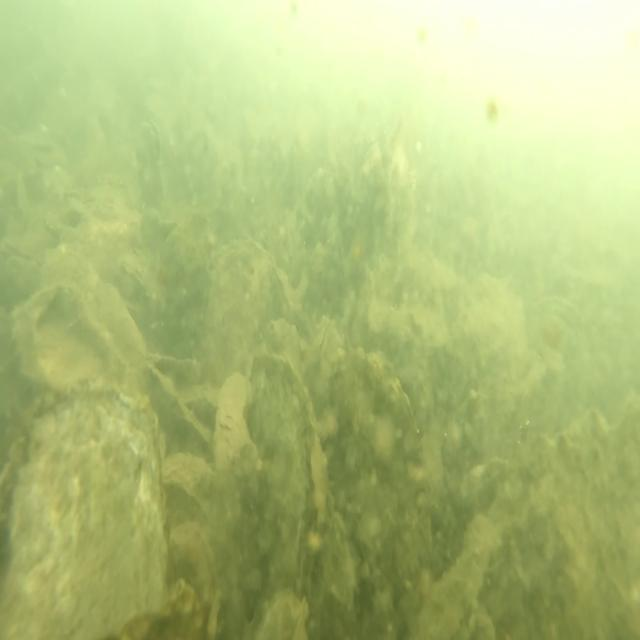Oyster-Closed: (329, 349, 431, 640), (249, 350, 322, 640), (150, 362, 212, 450), (167, 518, 220, 596), (161, 452, 215, 528), (303, 319, 342, 405), (274, 266, 306, 348), (118, 252, 150, 296)
Oyster-Indeterminate: (0, 386, 167, 639), (490, 405, 640, 640), (13, 280, 134, 396), (206, 234, 276, 385), (212, 369, 256, 524), (162, 210, 213, 329)
Oyster-Open: (134, 116, 163, 212), (0, 238, 44, 285)
